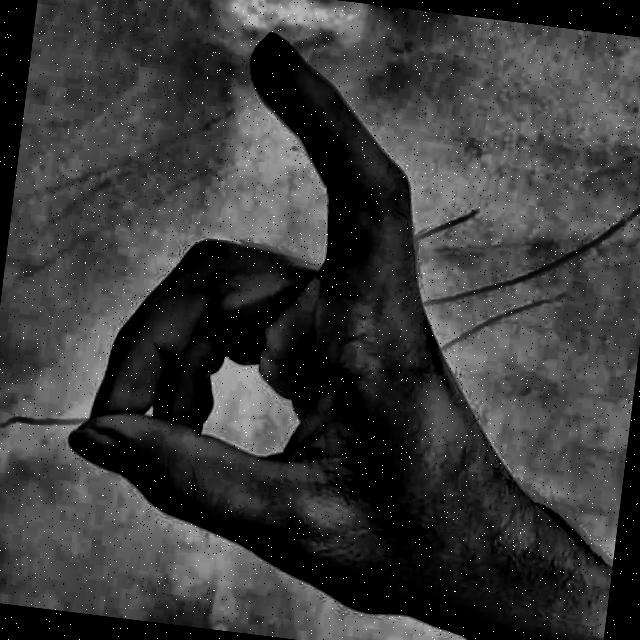Dha: (28, 0, 577, 640)
